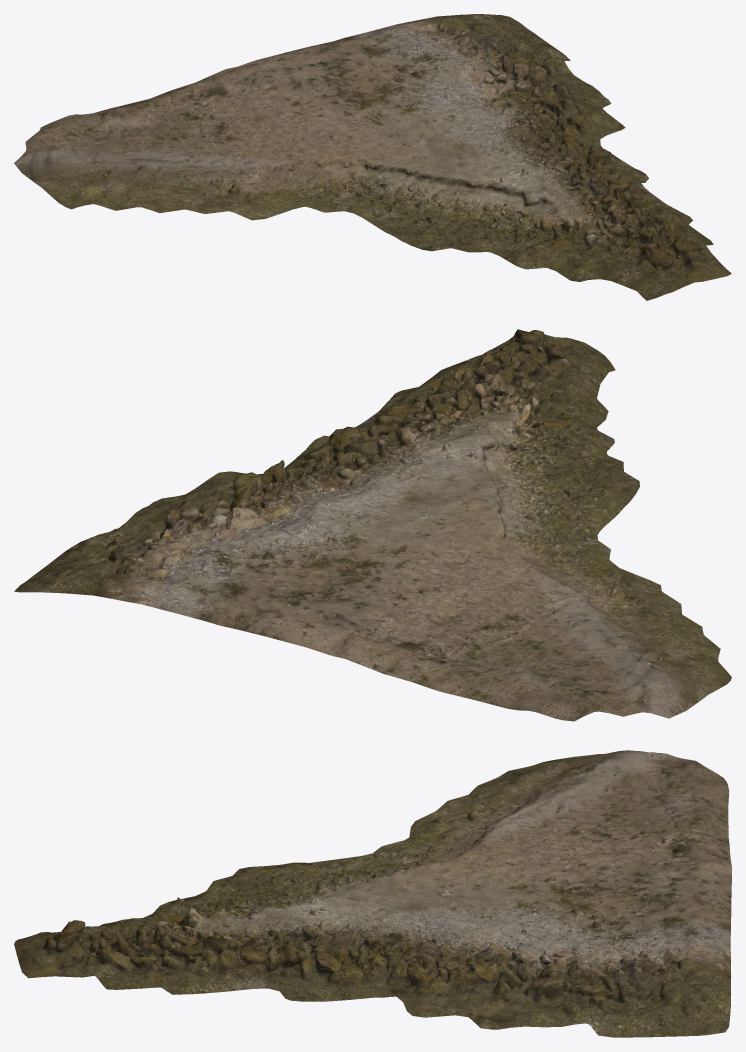
File: coast_rocks_02.glb
3 views of the same model, one above another, from view 1: azimuth 30°, elevation 25°; view 2: azimuth 150°, elevation 25°; view 3: azimuth 270°, elevation 25° (orthographic). The views are drawn at different scales.
Parts seen in each view (by area): view 1: coast_rocks_02; view 2: coast_rocks_02; view 3: coast_rocks_02.
Boxes of the visible parts, left/top/right/bottom form: coast_rocks_02: left=14, top=14, right=731, bottom=300; coast_rocks_02: left=14, top=329, right=731, bottom=721; coast_rocks_02: left=14, top=750, right=731, bottom=1037.
Size of the model in its own units: 45.97 by 3.14 by 49.46.
1 material, 1 textured.
